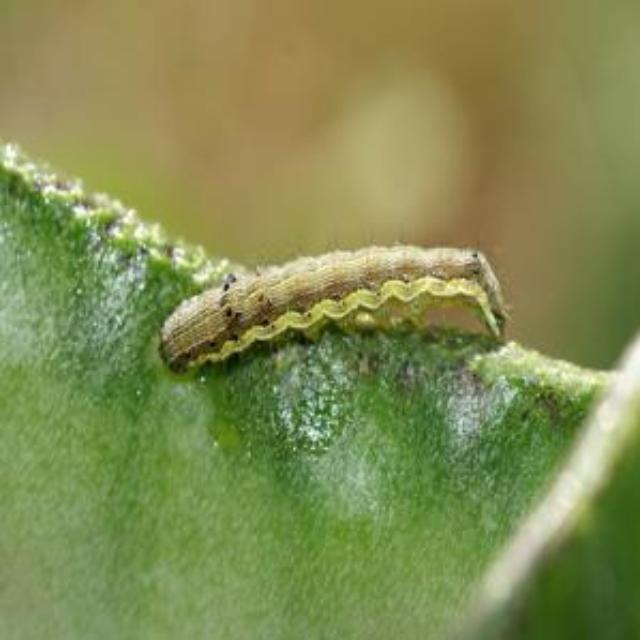Cotton bollworm: (109, 170, 543, 442)
